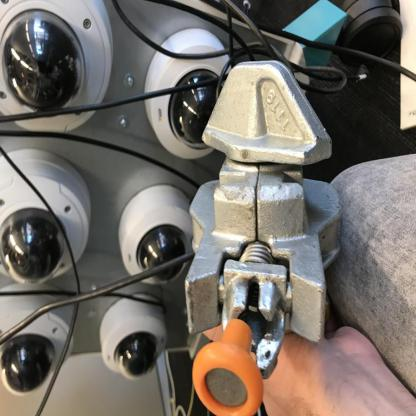Twistlock: (179, 45, 348, 411)
